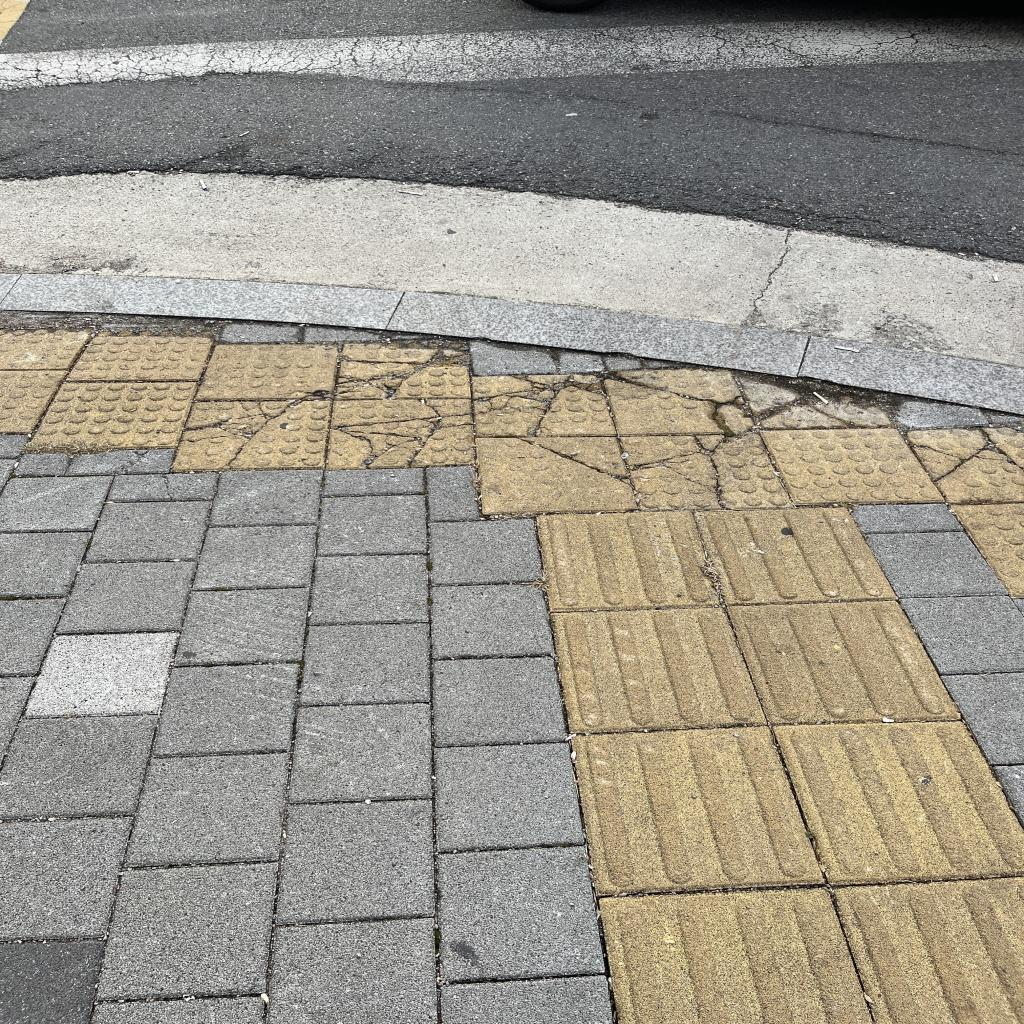Stop block broken: (621, 432, 792, 510), (476, 433, 636, 513), (171, 400, 332, 470), (326, 396, 474, 468), (603, 366, 755, 435), (472, 374, 615, 436), (336, 340, 469, 399)
Stop block normal: (761, 428, 943, 503), (27, 382, 198, 449)
Straight block normal: (552, 605, 765, 731), (696, 506, 895, 603)
